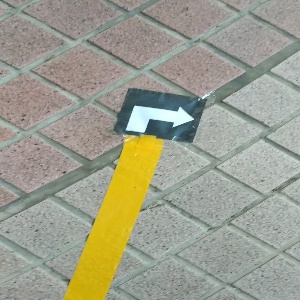right: (113, 88, 202, 141)
